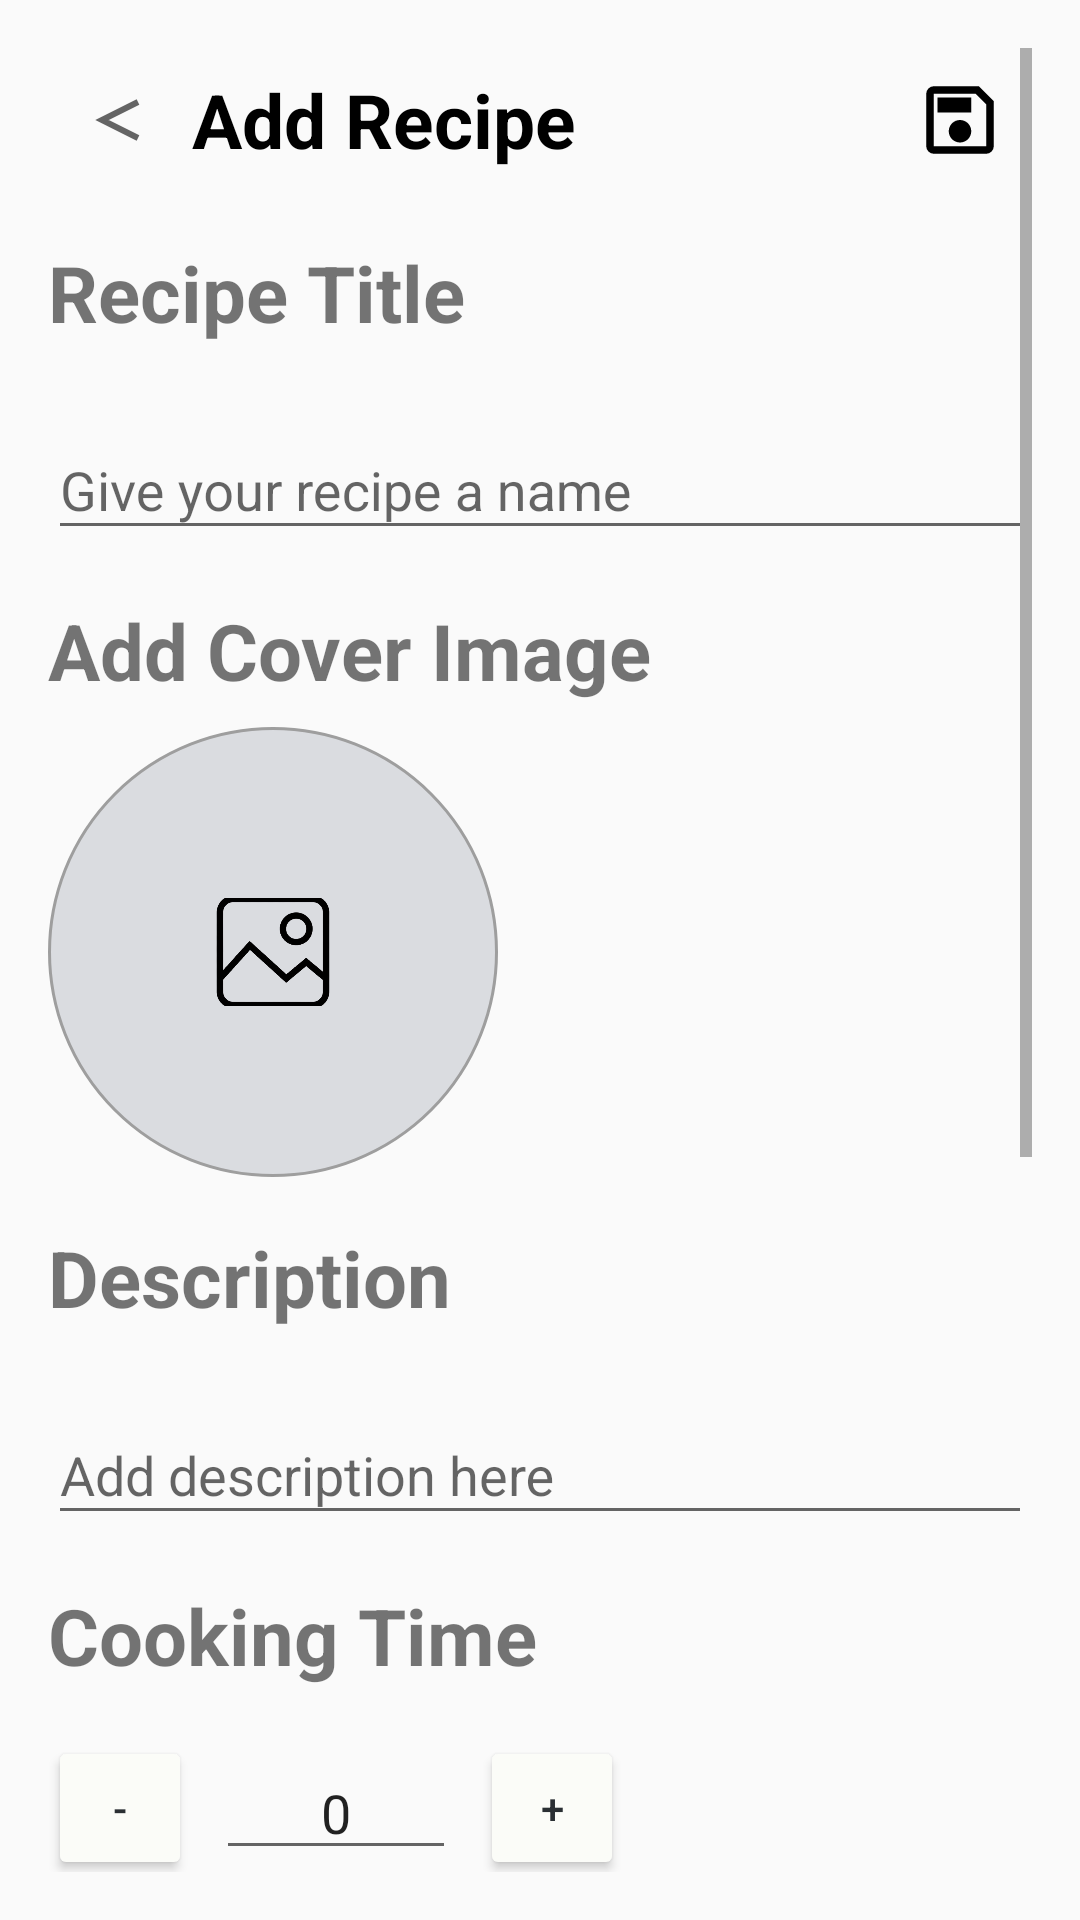

Icons on this 1080 × 1920 Android screen, each with the point to tap as point (x, y):
arrow back: point (117, 120)
Cover image: point (273, 952)
save: point (960, 120)
